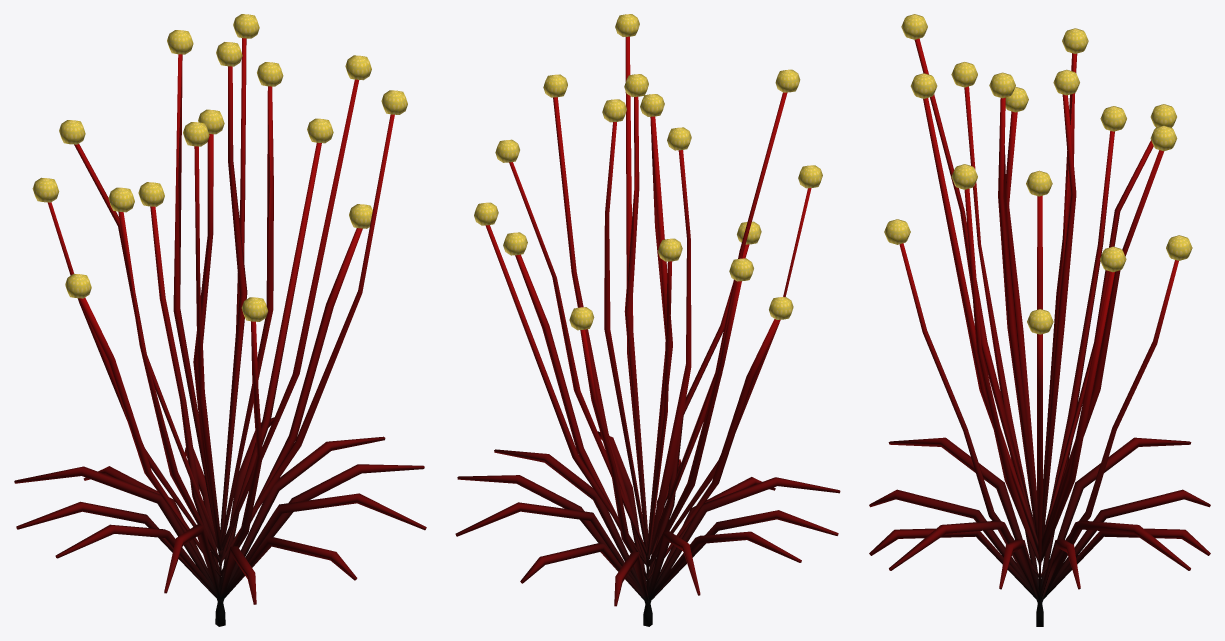
Rendered from Billybutton.fbx.
3 views of the same model, side by side, from view 1: azimuth 30°, elevation 25°; view 2: azimuth 150°, elevation 25°; view 3: azimuth 270°, elevation 25° (orthographic). The views are drawn at different scales.
Visible parts, largest first — view 1: BillybuttonStem; view 2: BillybuttonStem; view 3: BillybuttonStem.
Boxes of the visible parts, left/top/right/bottom form: BillybuttonStem: left=14, top=14, right=426, bottom=626; BillybuttonStem: left=455, top=14, right=840, bottom=626; BillybuttonStem: left=869, top=14, right=1210, bottom=626.
Size of the model in its own units: 0.4482 by 0.6892 by 0.3618.
Materials: 2 (1 with a texture image).
